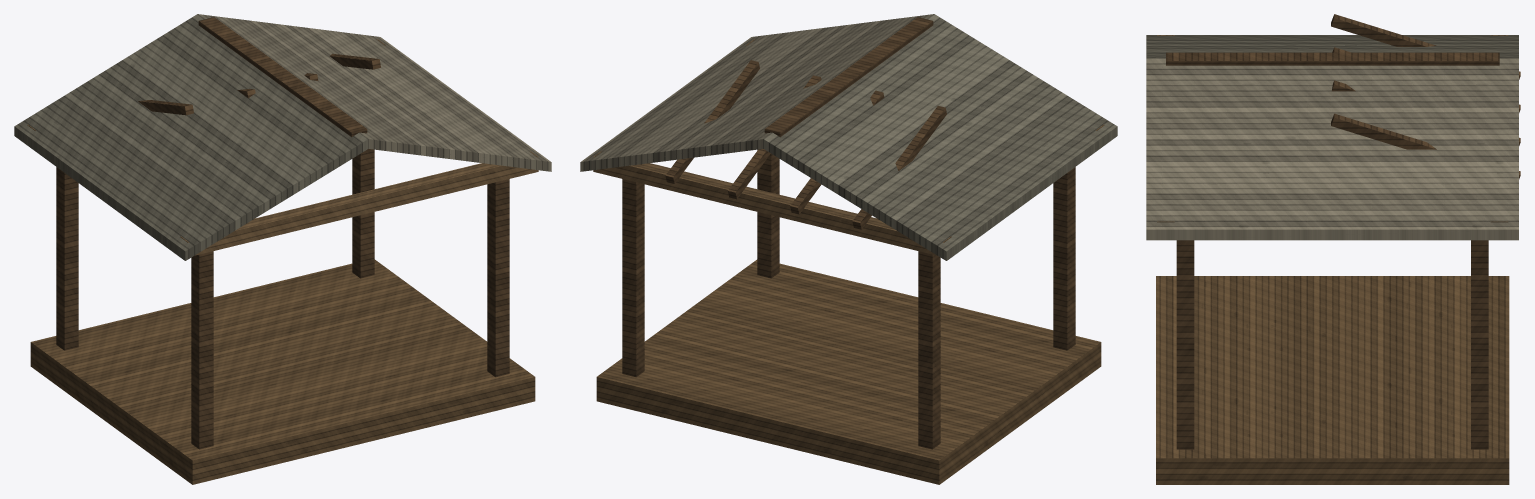
Rendered from wooden_forest_open_timber_shelter.glb.
3 renders of one model, left to right at view 1: azimuth 30°, elevation 25°; view 2: azimuth 150°, elevation 25°; view 3: azimuth 270°, elevation 25°, orthographic. The views are drawn at different scales.
Visible parts, largest first — view 1: Wooden_Forest_Open_Timber_Shelter; view 2: Wooden_Forest_Open_Timber_Shelter; view 3: Wooden_Forest_Open_Timber_Shelter.
Boxes of the visible parts, x1,y1,x2,y2 form: Wooden_Forest_Open_Timber_Shelter: [14, 14, 551, 484]; Wooden_Forest_Open_Timber_Shelter: [580, 14, 1117, 484]; Wooden_Forest_Open_Timber_Shelter: [1146, 14, 1520, 484].
Bounding box in the file's own units: 4.7 × 3.79 × 3.82.
Materials: 5 (5 with a texture image).
